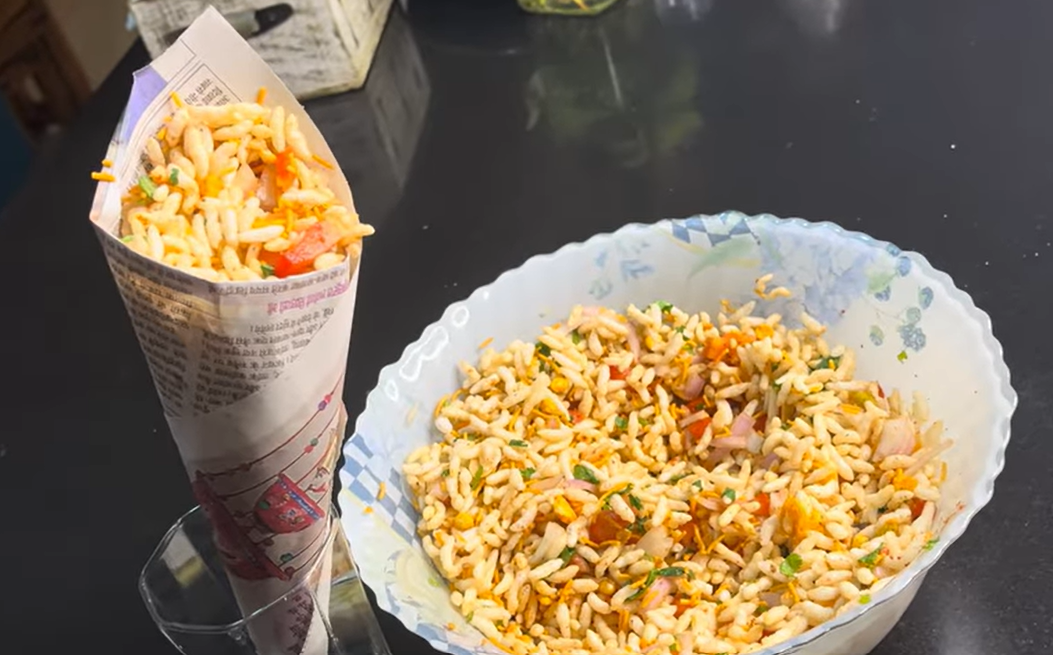chatpate: (429, 341, 894, 600), (150, 106, 307, 260)
